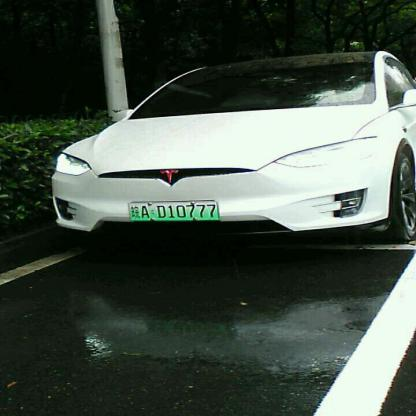lp: (127, 200, 219, 221)
